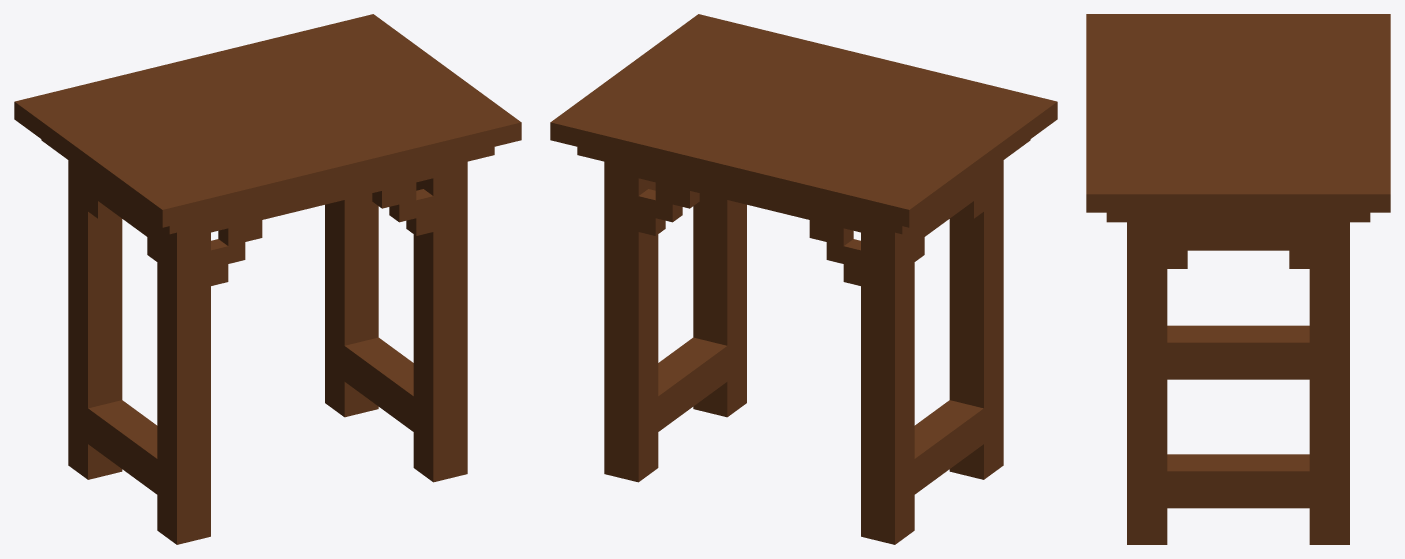
The model's file is Chaise du piano.obj.
3 views of the same model, side by side, from view 1: azimuth 30°, elevation 25°; view 2: azimuth 150°, elevation 25°; view 3: azimuth 270°, elevation 25° (orthographic). The views are drawn at different scales.
Visible parts, largest first — view 1: Chaise du piano; view 2: Chaise du piano; view 3: Chaise du piano.
Boxes of the visible parts, <box> form: Chaise du piano: <box>14,14,521,544</box>; Chaise du piano: <box>550,14,1057,544</box>; Chaise du piano: <box>1086,14,1390,544</box>.
Bounding box in the file's own units: 21 × 20 × 15.
Materials: 1 (1 with a texture image).
